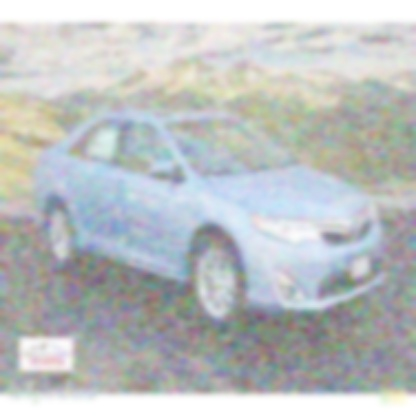Vehicle: (32, 103, 384, 332)
